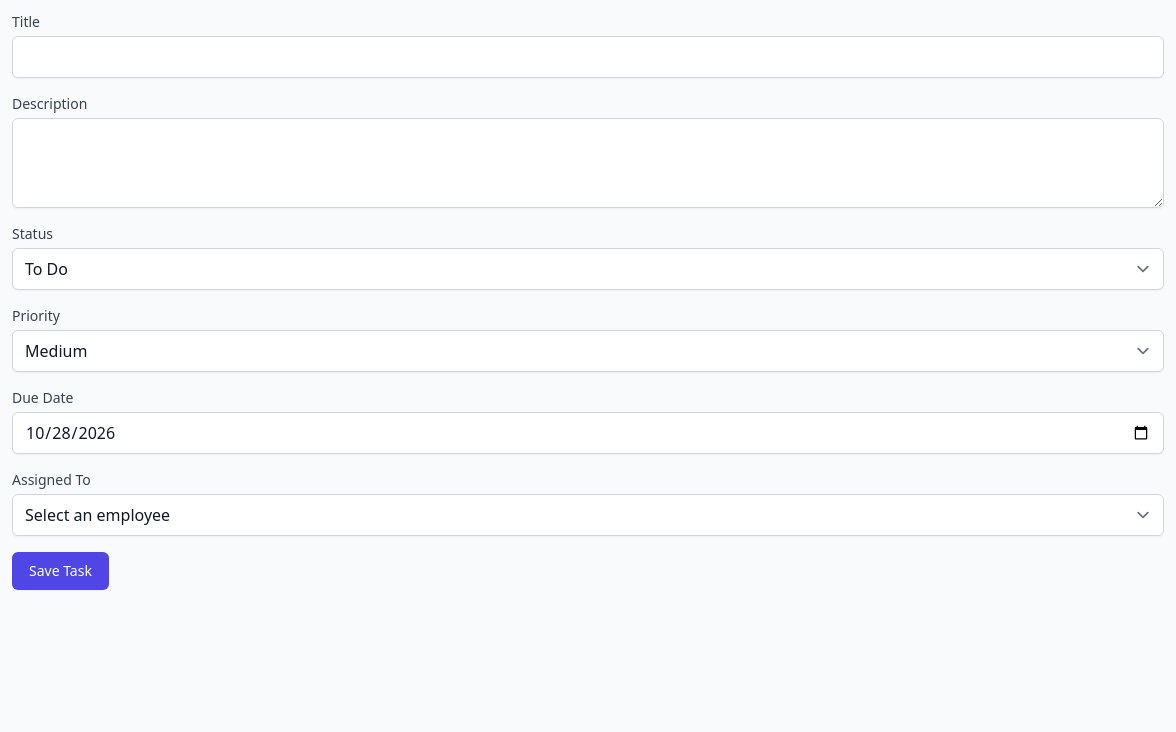
Test: TaskForm › shows errors and does not submit when required fields are empty
Click the button "Save Task". click: (60, 571)
box: [12, 552, 109, 590]
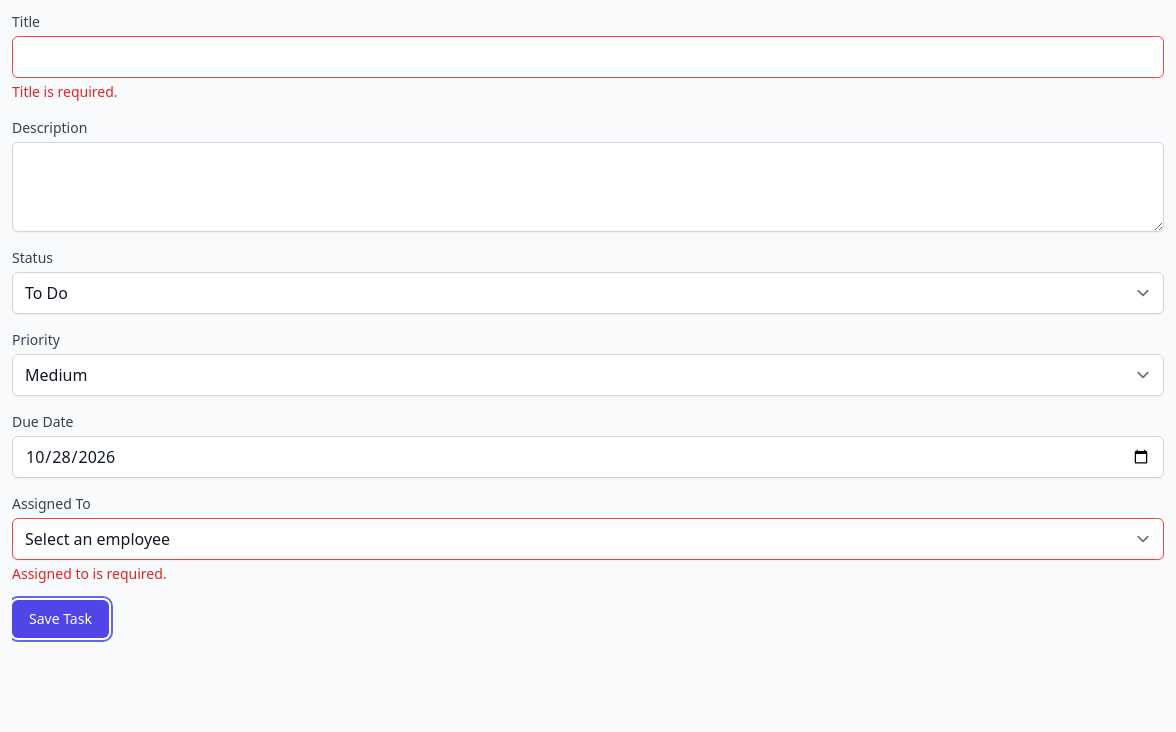
Now the text "Title is required." is shown, box [12, 82, 118, 101]
Now the text "Assigned to is required." is shown, box [12, 564, 166, 583]
